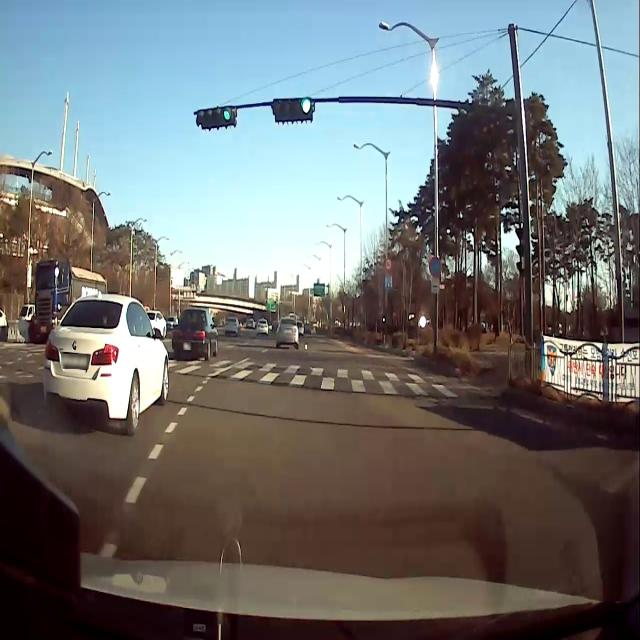Green Light: (300, 95, 312, 115), (222, 106, 232, 122)
